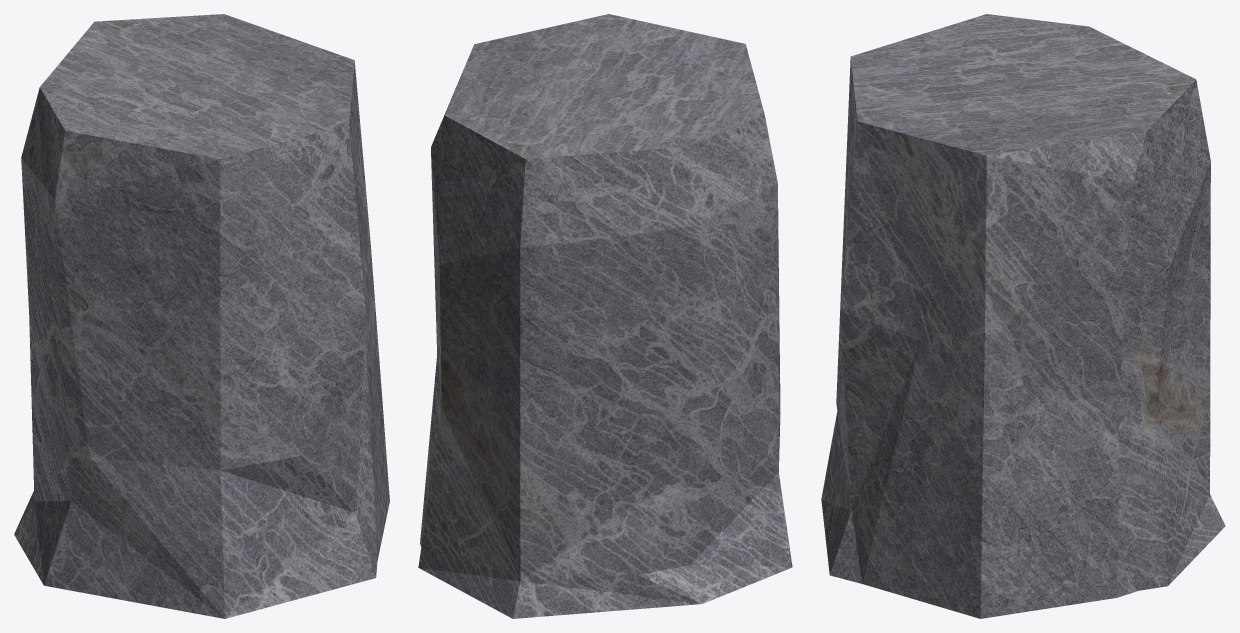
File: 002_Stone_10.fbx
3 renders of one model, left to right at view 1: azimuth 30°, elevation 25°; view 2: azimuth 150°, elevation 25°; view 3: azimuth 270°, elevation 25°, orthographic.
Parts seen in each view (by area): view 1: T_Stone_10; view 2: T_Stone_10; view 3: T_Stone_10.
Boxes of the visible parts, x1=… form: T_Stone_10: x1=14, y1=14, x2=389, y2=618; T_Stone_10: x1=418, y1=14, x2=792, y2=618; T_Stone_10: x1=821, y1=14, x2=1225, y2=618.
Bounding box in the file's own units: 92.19 × 114 × 93.06.
